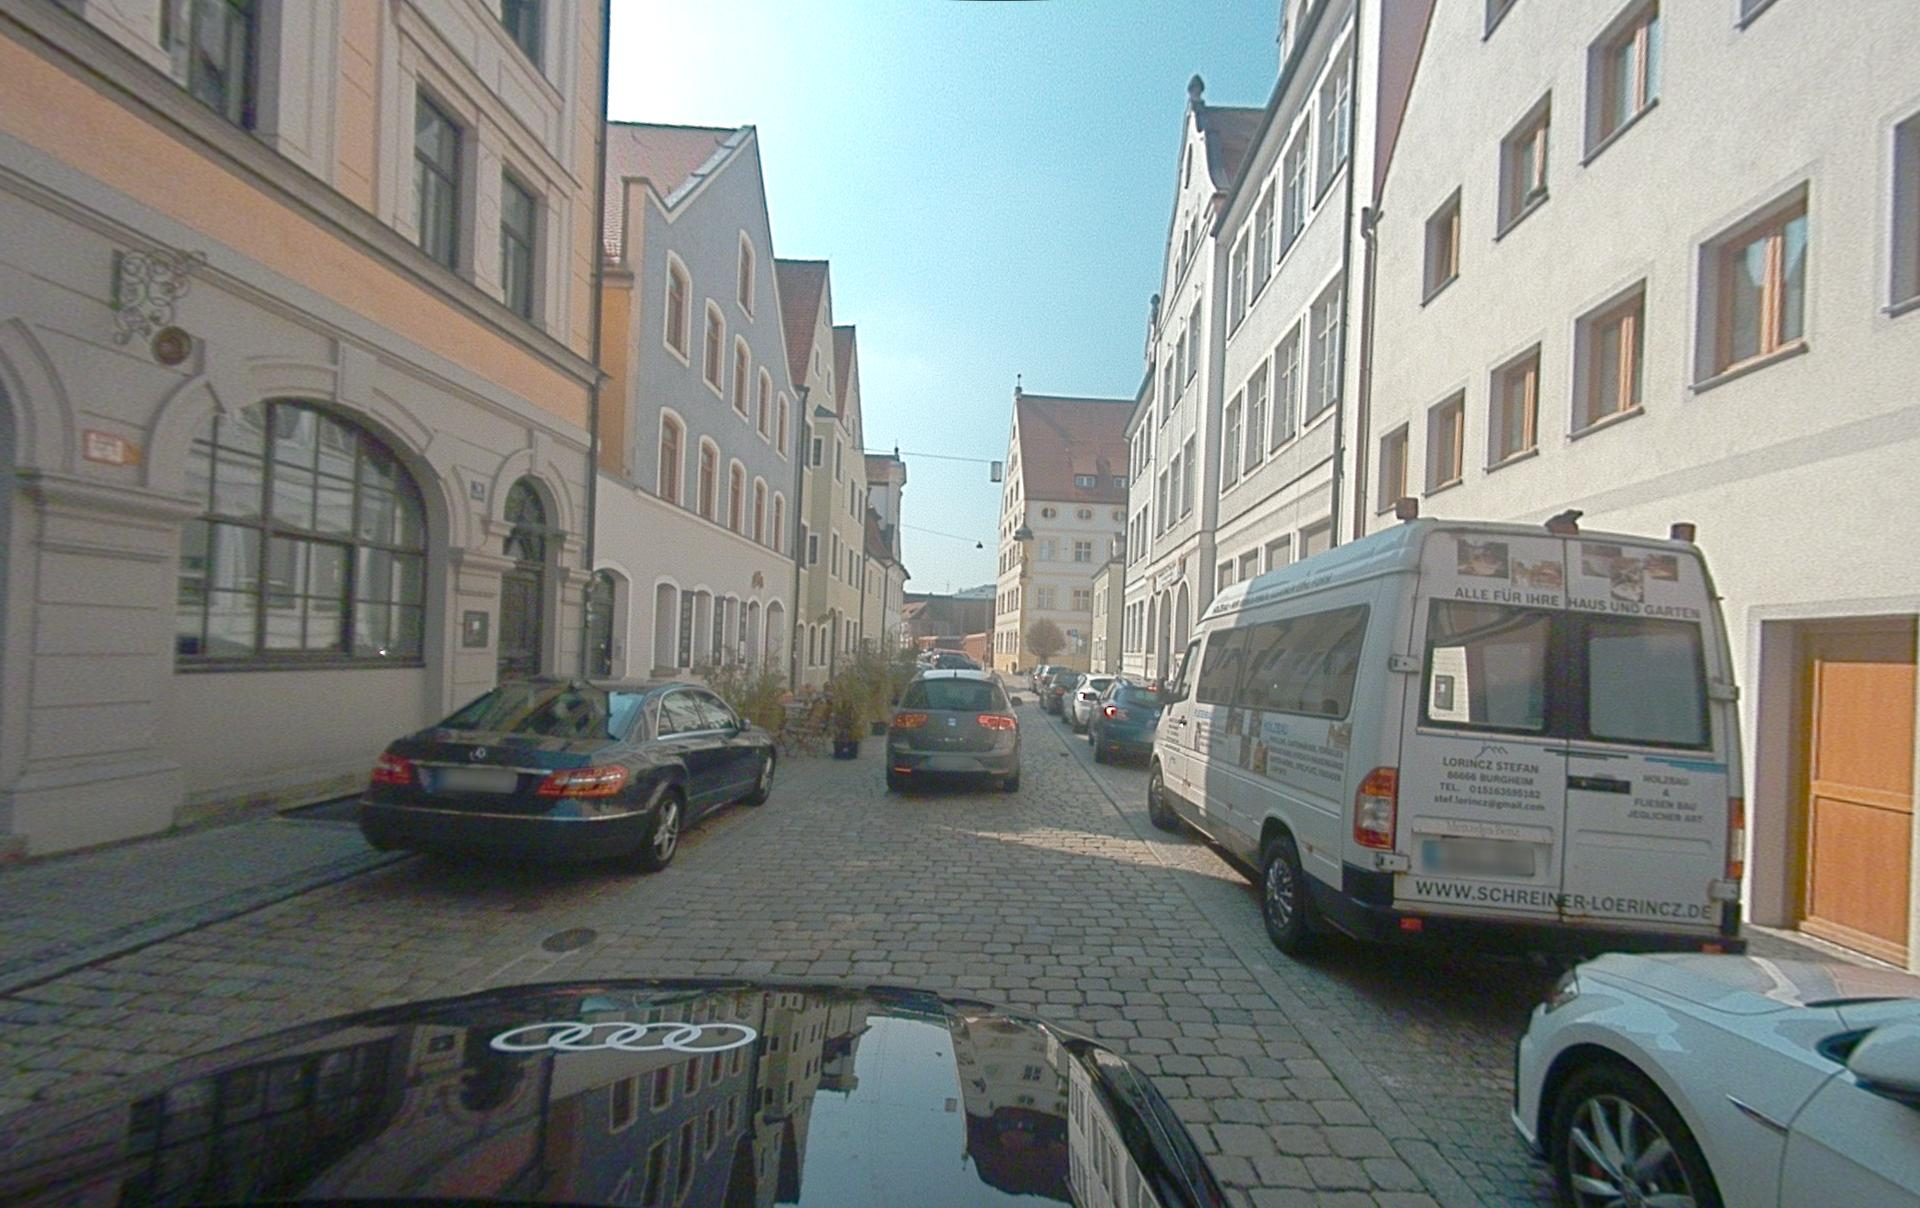car: (19, 976, 1235, 1207), (1510, 949, 1920, 1208), (359, 674, 778, 873), (885, 668, 1021, 793), (1088, 678, 1163, 764), (1064, 674, 1119, 731), (1041, 672, 1081, 714)
